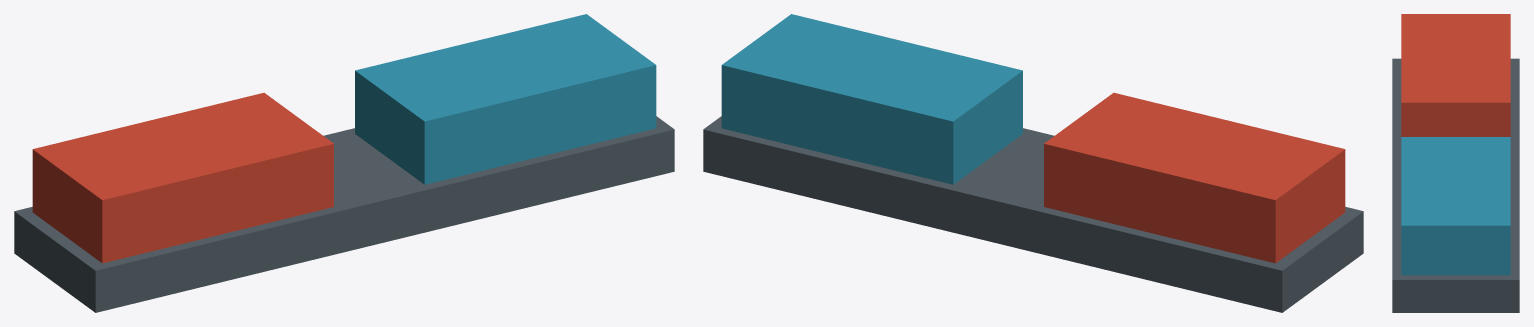
Rendered from SAF_POLICE_LIGHTBAR_01.fbx.
3 views of the same model, side by side, from view 1: azimuth 30°, elevation 25°; view 2: azimuth 150°, elevation 25°; view 3: azimuth 270°, elevation 25° (orthographic). The views are drawn at different scales.
Visible parts, largest first — view 1: SAF_POLICE_LIGHTBAR_01; view 2: SAF_POLICE_LIGHTBAR_01; view 3: SAF_POLICE_LIGHTBAR_01.
Part boxes in pixels (left/top/right/bottom): SAF_POLICE_LIGHTBAR_01: left=14, top=14, right=674, bottom=312; SAF_POLICE_LIGHTBAR_01: left=703, top=14, right=1363, bottom=312; SAF_POLICE_LIGHTBAR_01: left=1392, top=14, right=1519, bottom=312.
Bounding box in the file's own units: 115 × 20 × 28.
